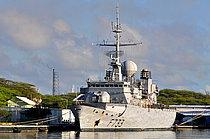MIL_Ship: (69, 9, 177, 133)
